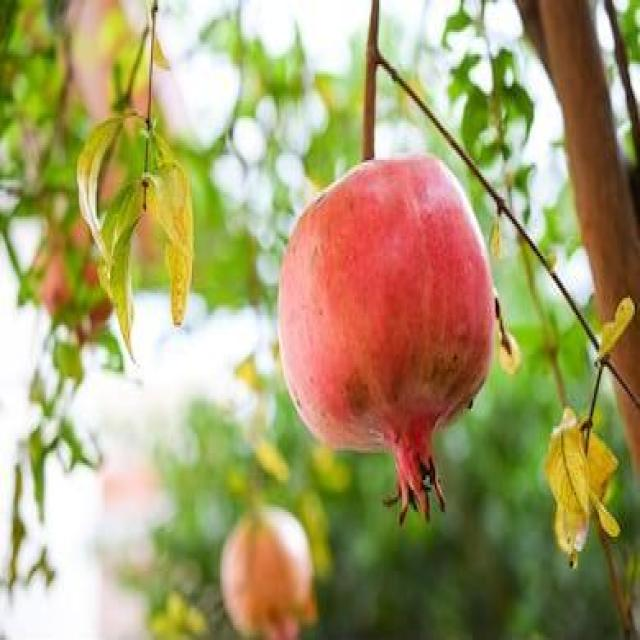Pomegranate: (278, 148, 501, 530)
